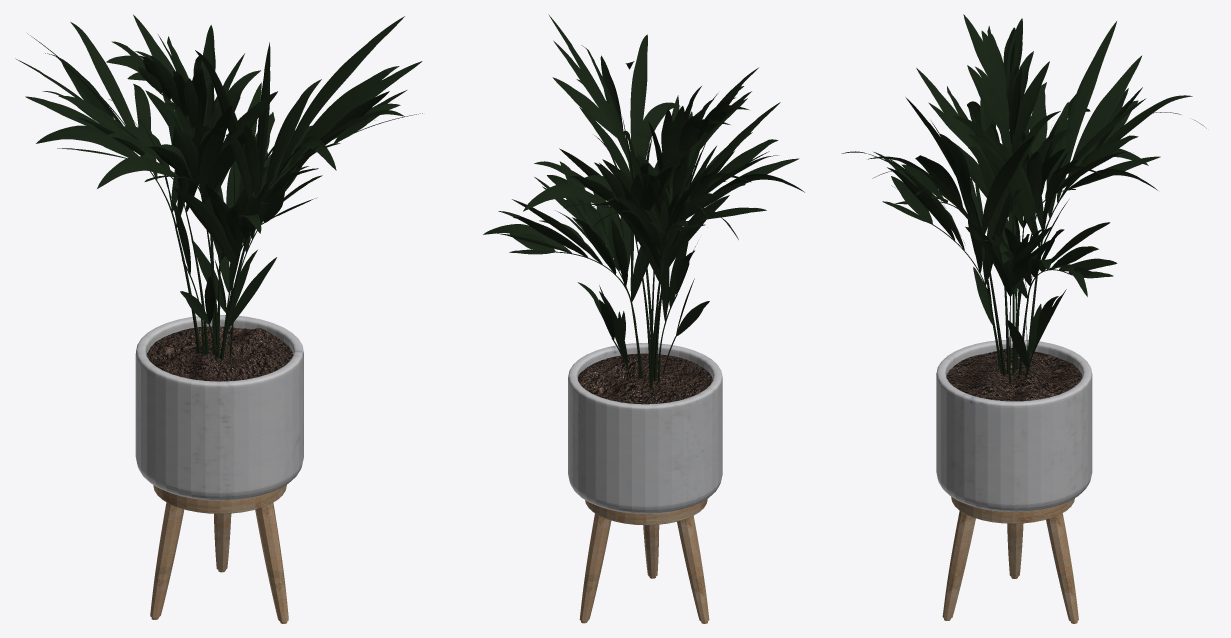
The model's file is potted-plant-5.obj.
3 renders of one model, left to right at view 1: azimuth 30°, elevation 25°; view 2: azimuth 150°, elevation 25°; view 3: azimuth 270°, elevation 25°, orthographic. The views are drawn at different scales.
Visible parts, largest first — view 1: Outdoor_plants_flowers_029; view 2: Outdoor_plants_flowers_029; view 3: Outdoor_plants_flowers_029.
Boxes of the visible parts, x1,y1,x2,y2 form: Outdoor_plants_flowers_029: (15, 14, 422, 623); Outdoor_plants_flowers_029: (483, 14, 804, 623); Outdoor_plants_flowers_029: (841, 14, 1206, 623).
Bounding box in the file's own units: 65.39 × 123 × 77.58.
Materials: 4 (3 with a texture image).
